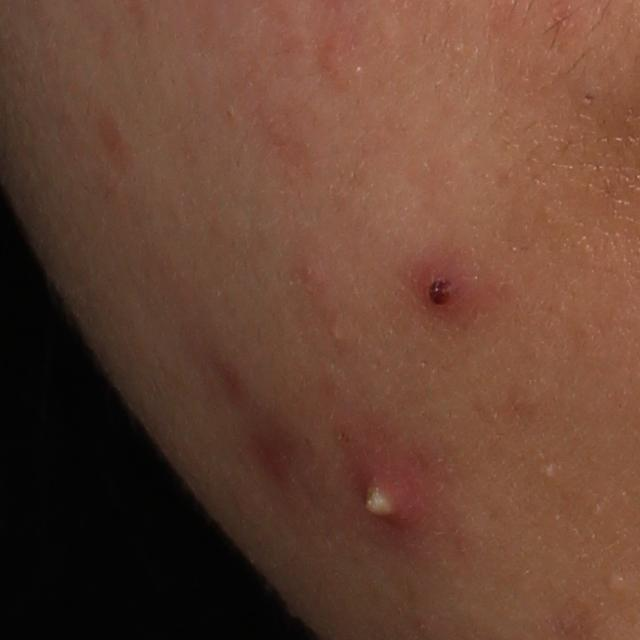comedo: (599, 563, 630, 597), (541, 459, 556, 480)
papule: (408, 251, 476, 314)
pustule: (339, 427, 438, 548)
